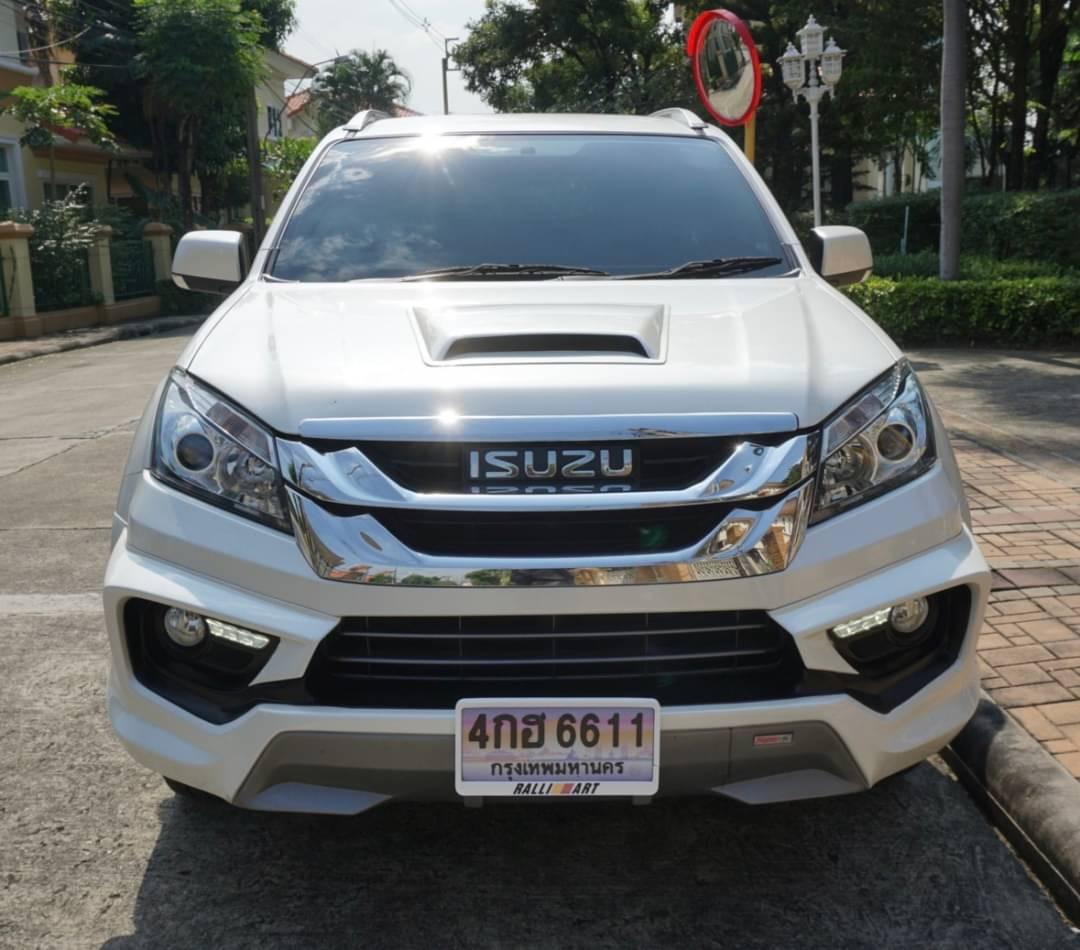license-plate: (455, 688, 666, 799)
